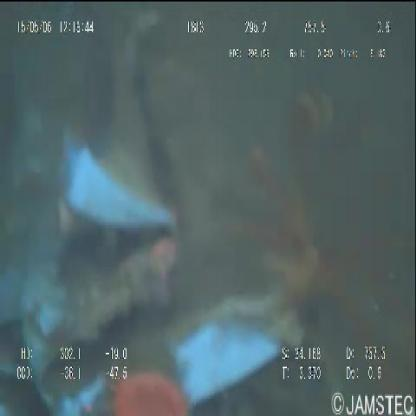Rác: (0, 0, 344, 415)
